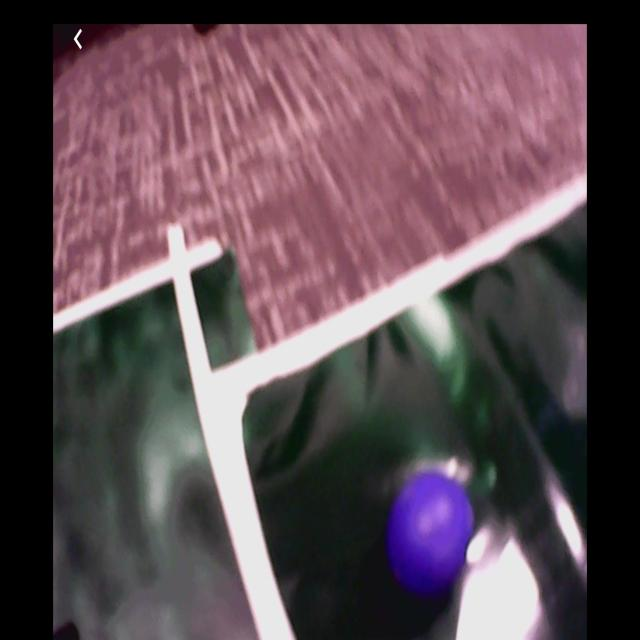ball: (390, 477, 474, 590)
